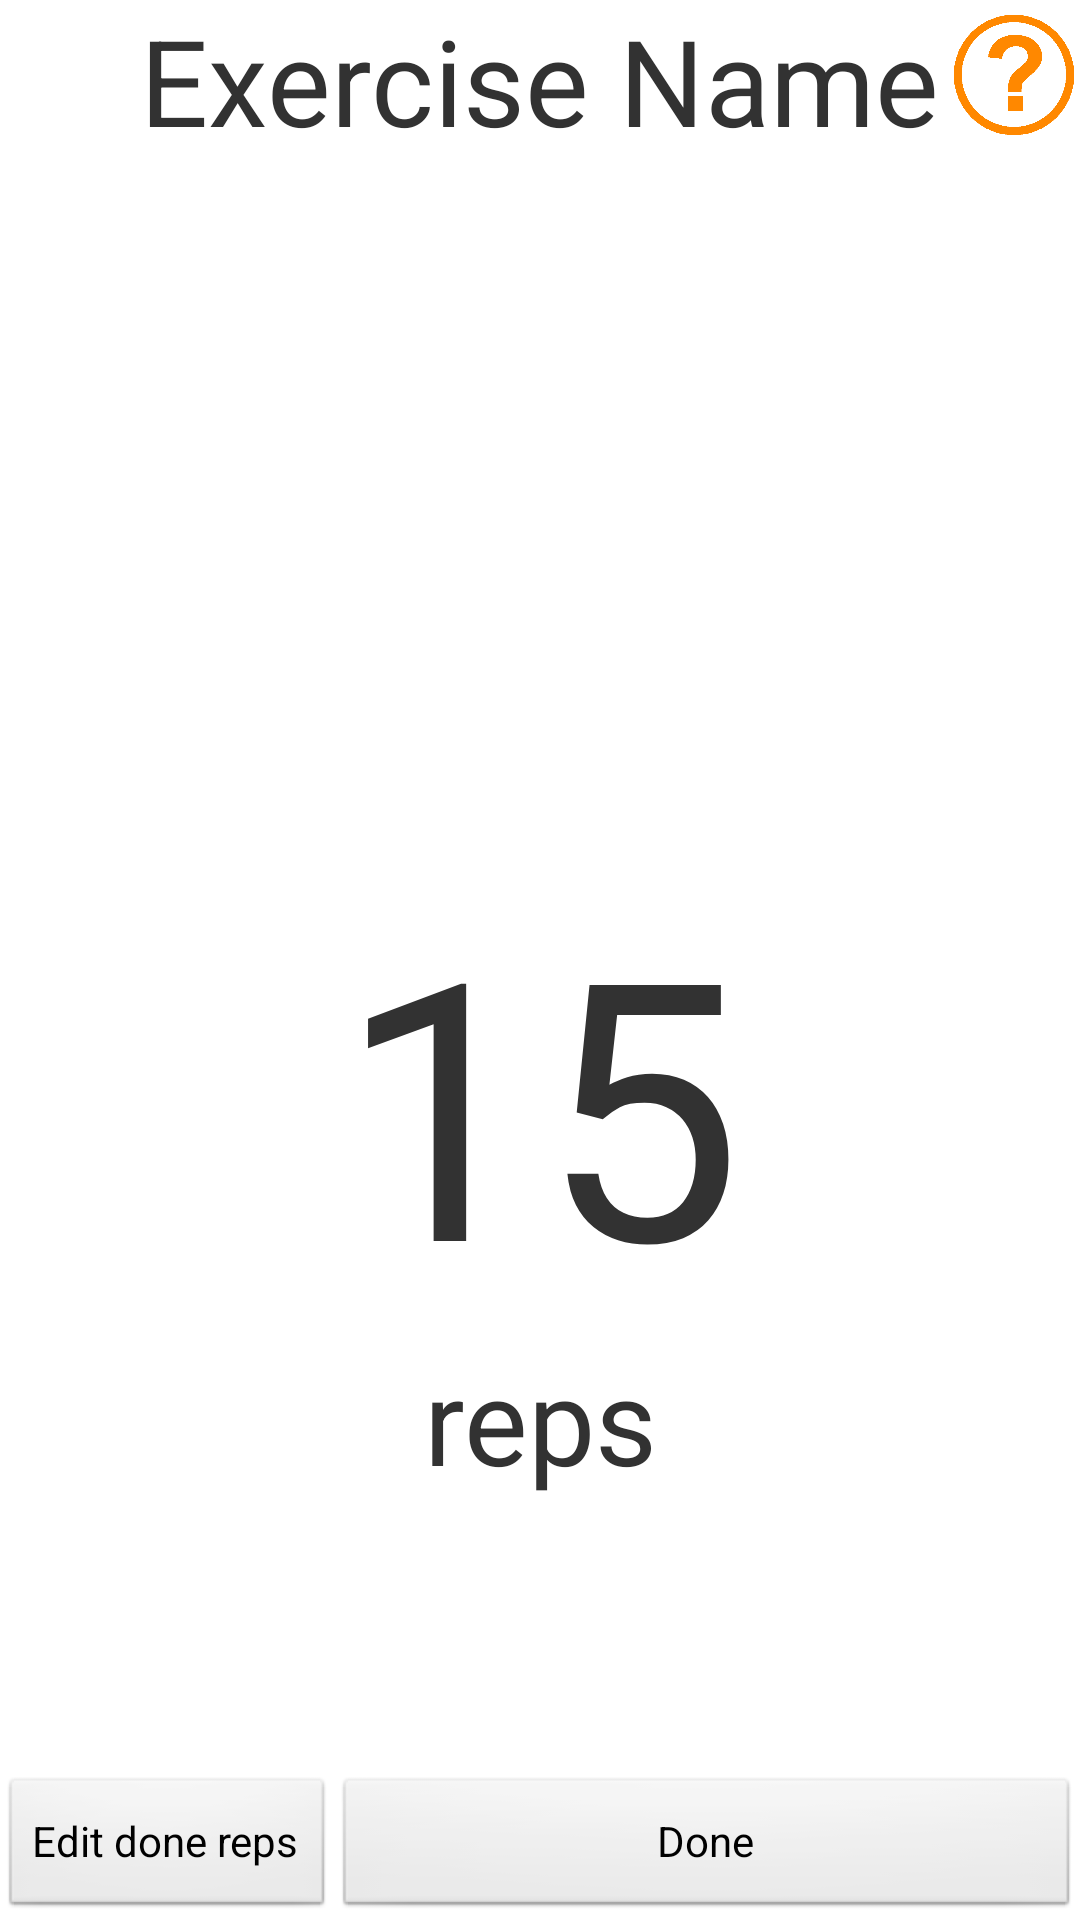

Icon click points for this 1080x1920 phone screenshot, format (x=x, y=y):
Help: (x=1014, y=75)
